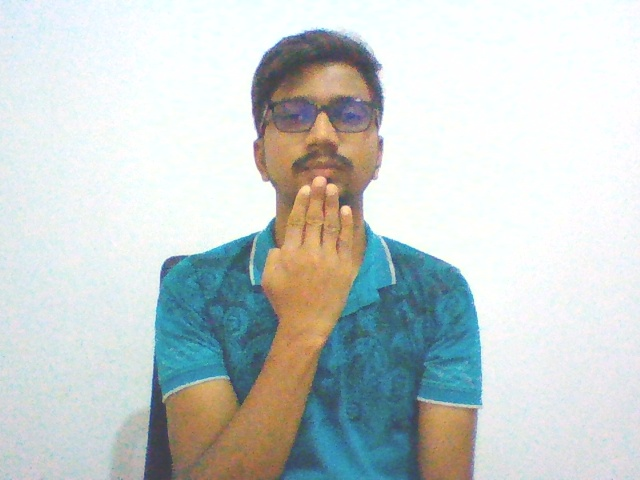mango: (259, 169, 357, 364)
